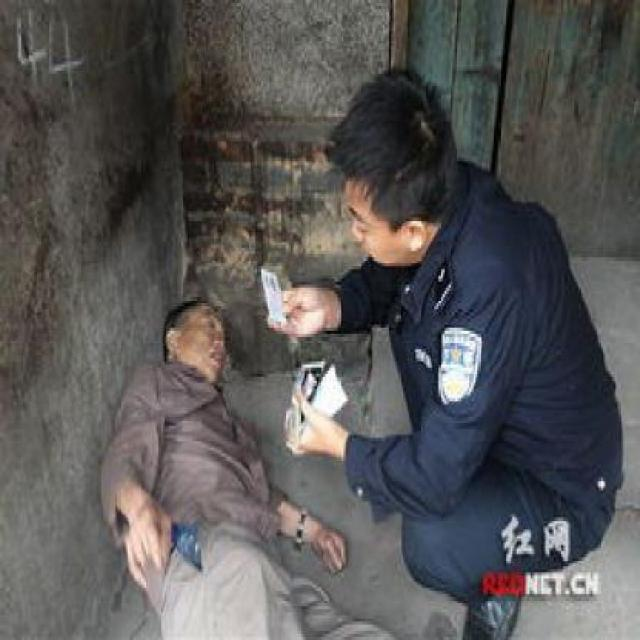fall: (97, 266, 401, 637)
